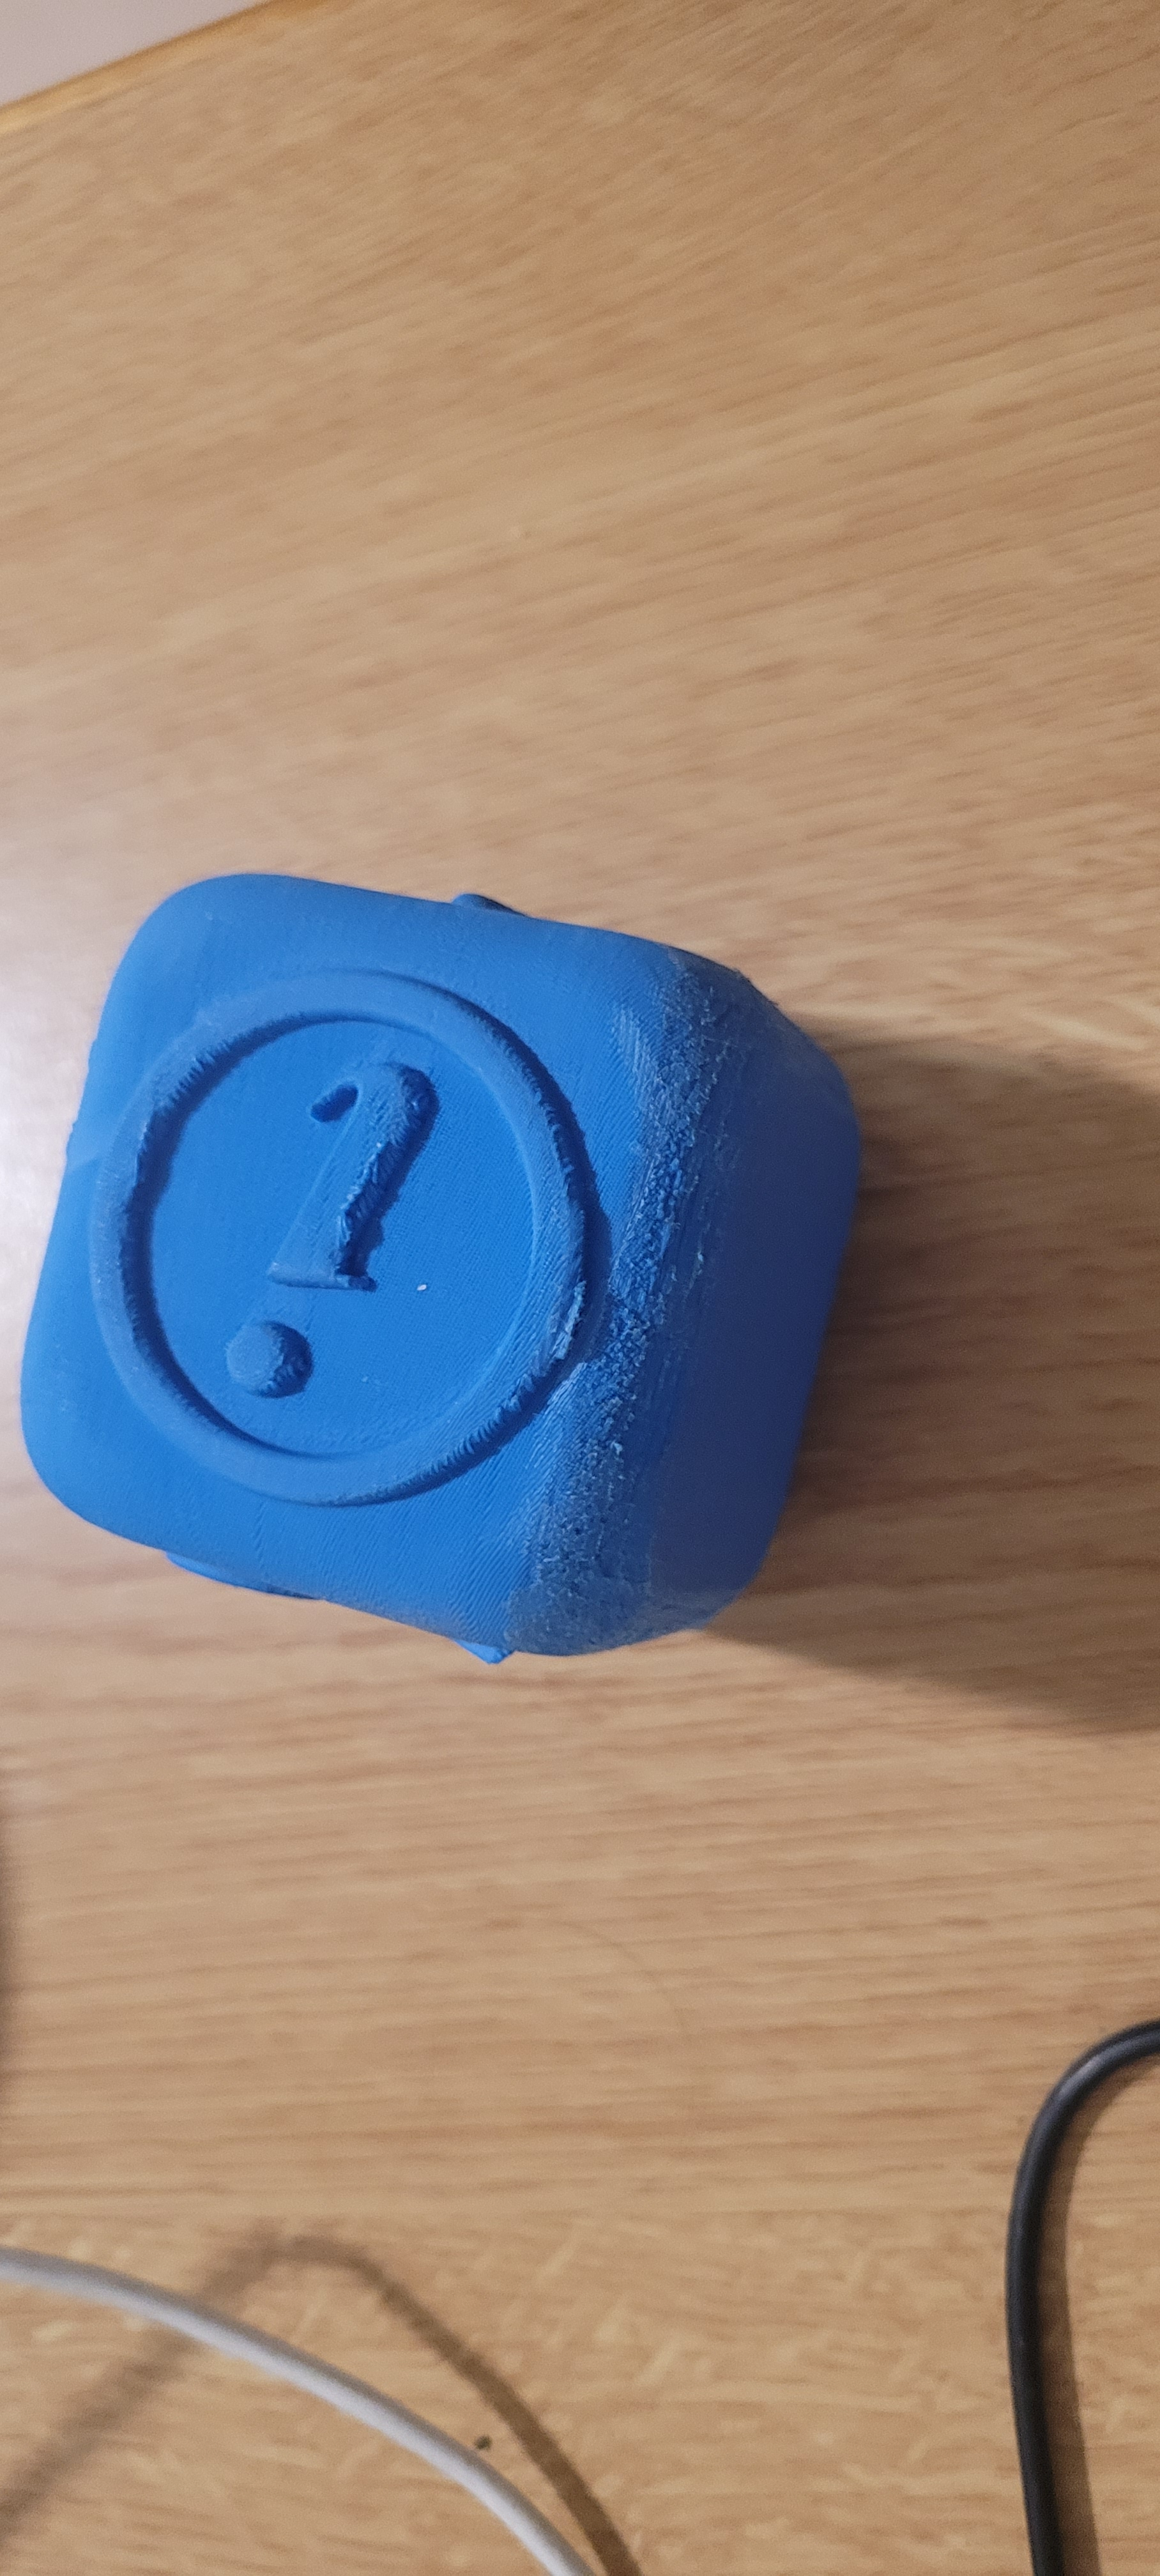Info: (43, 940, 642, 1487)
